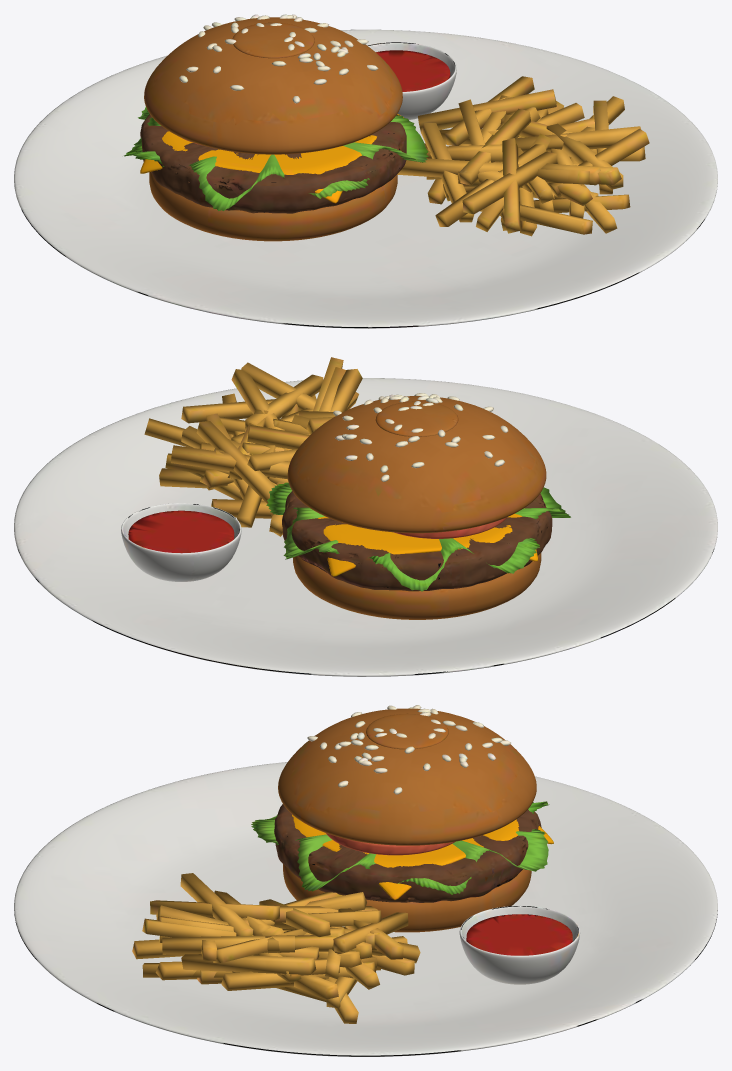
The model's file is hamburguesa.glb.
3 renders of one model, top to bottom at view 1: azimuth 30°, elevation 25°; view 2: azimuth 150°, elevation 25°; view 3: azimuth 270°, elevation 25°, orthographic.
Visible parts, largest first — view 1: hamburguesa; view 2: hamburguesa; view 3: hamburguesa.
Part boxes in pixels (x1=…): hamburguesa: x1=14, y1=14, x2=717, y2=328; hamburguesa: x1=14, y1=357, x2=717, y2=676; hamburguesa: x1=14, y1=705, x2=717, y2=1056.
Size of the model in its own units: 0.3092 by 0.0821 by 0.3092.
Materials: 1 (1 with a texture image).
